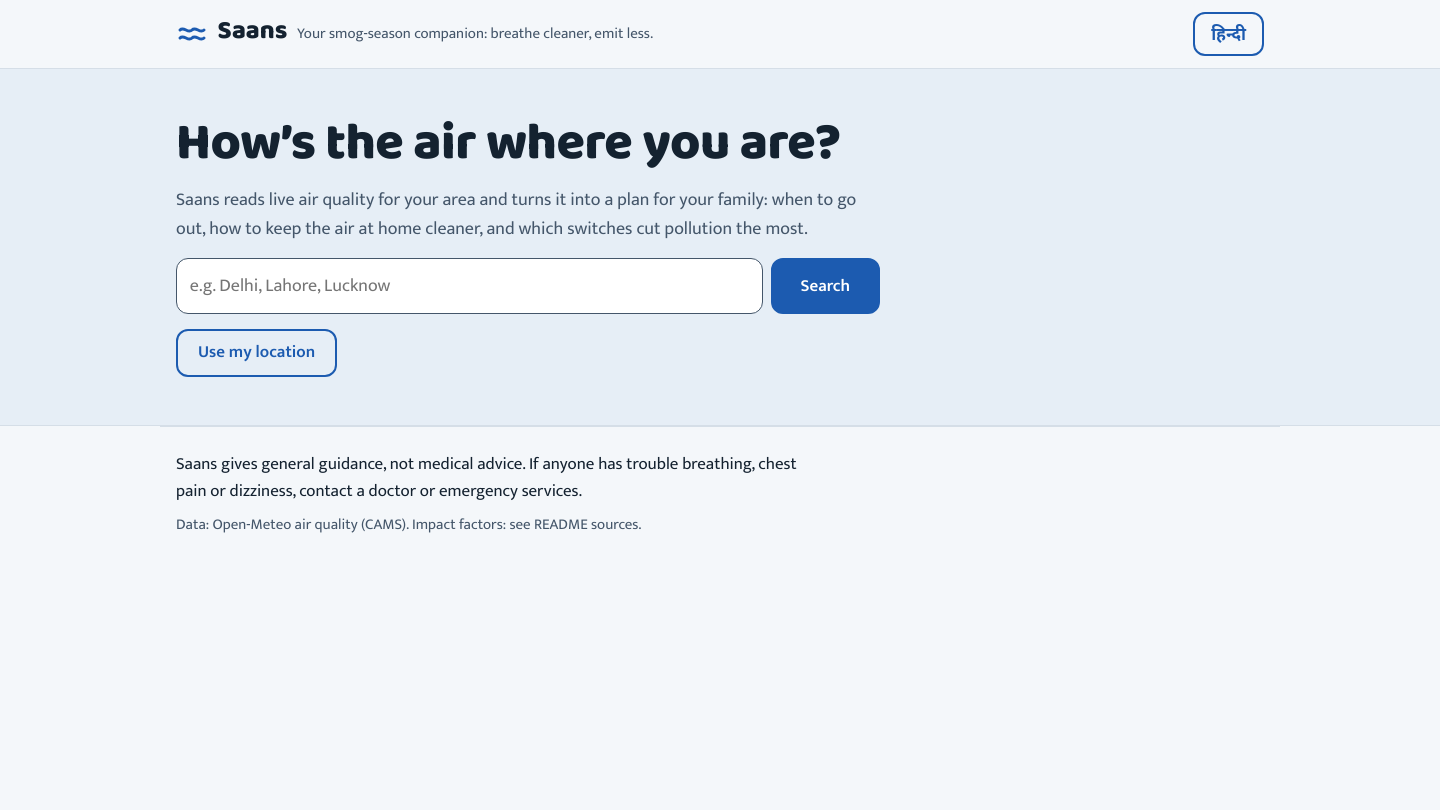
Test: App: location › reports a location error from the browser
Click the button "Use my location": [257, 353] box [176, 329, 337, 377]
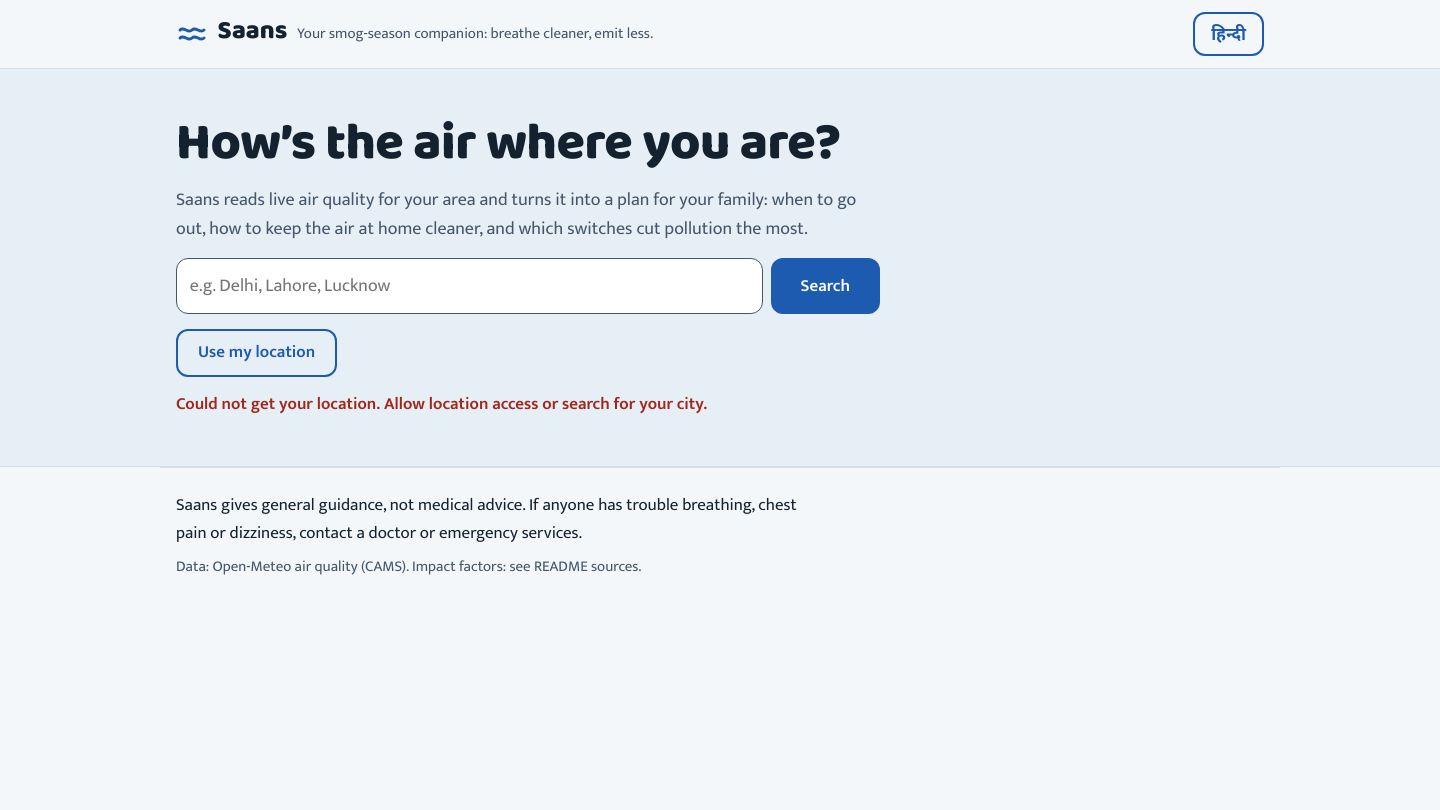
Expected: the text "Could not get your location. Allow location access or search for your city." is shown, [176, 391, 707, 418]
